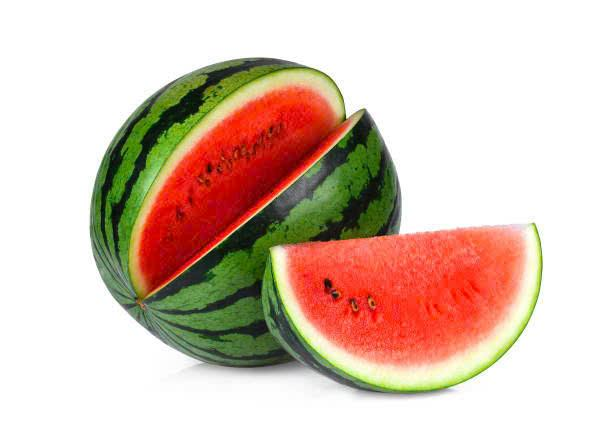watermelon: (73, 55, 404, 235), (259, 219, 548, 397)
